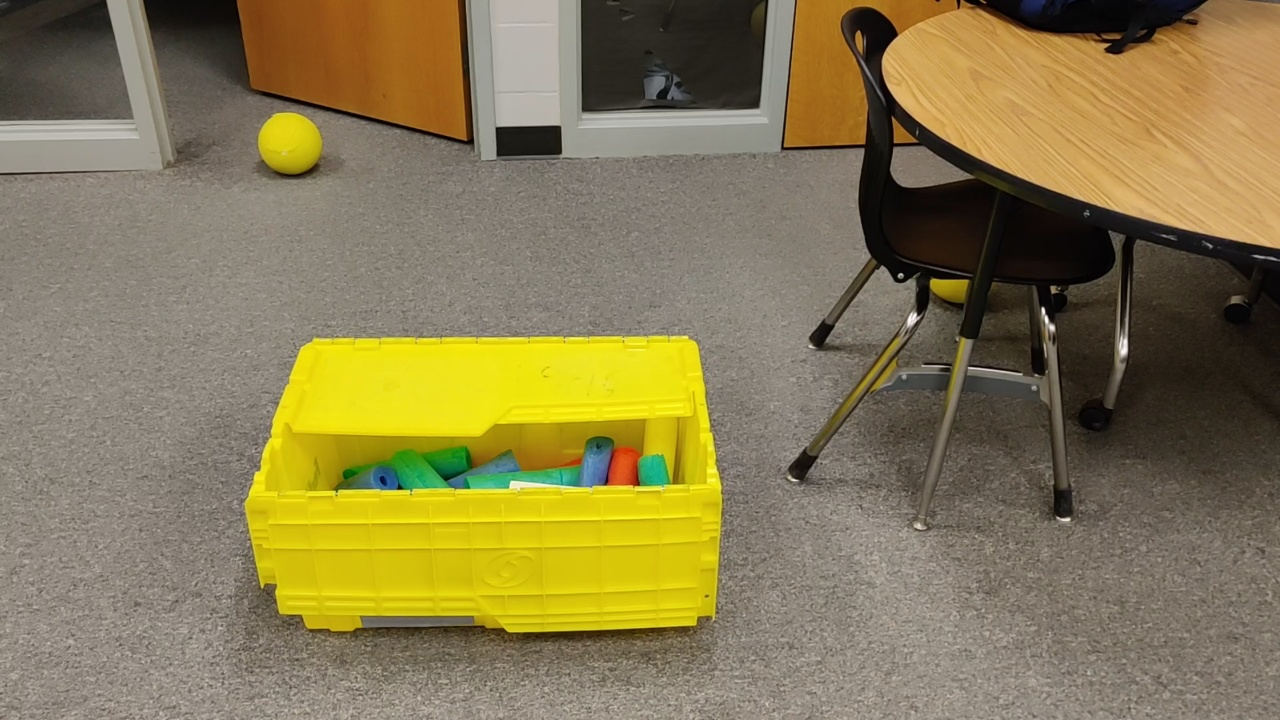Ball: (255, 109, 325, 179), (930, 276, 965, 306)
